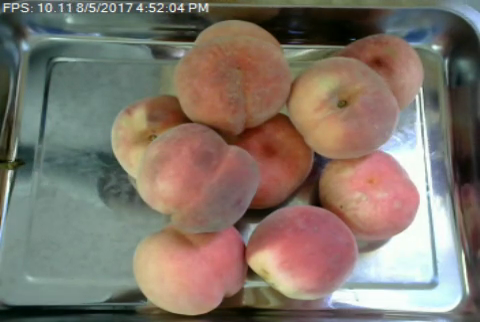Peach: (136, 122, 261, 234), (173, 35, 290, 135), (285, 56, 396, 160), (244, 204, 357, 299), (131, 225, 247, 314), (315, 151, 421, 242), (328, 31, 432, 113)
